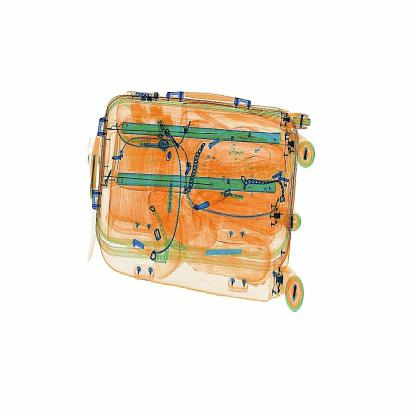pliers: (195, 240, 266, 268)
